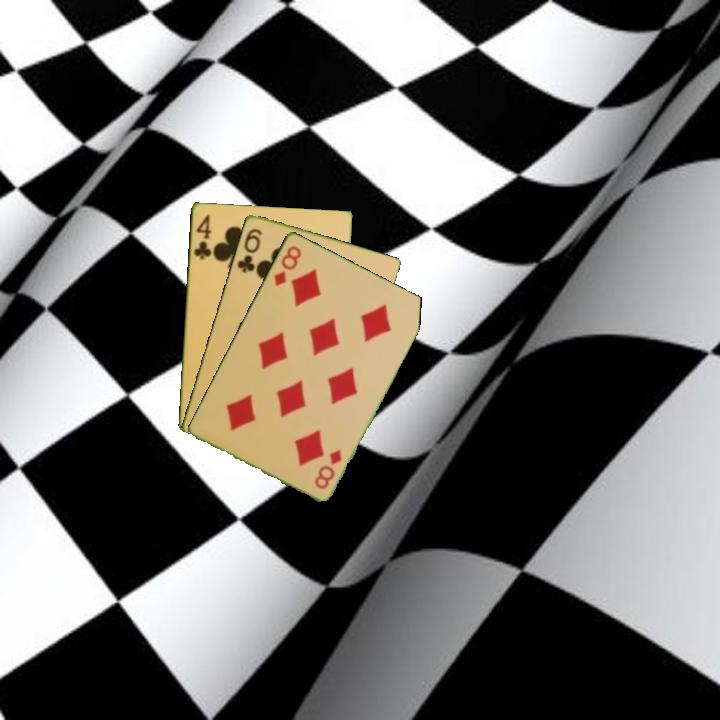4c: (190, 210, 214, 262)
6c: (233, 224, 265, 275)
8d: (270, 242, 304, 289), (311, 445, 345, 492)
